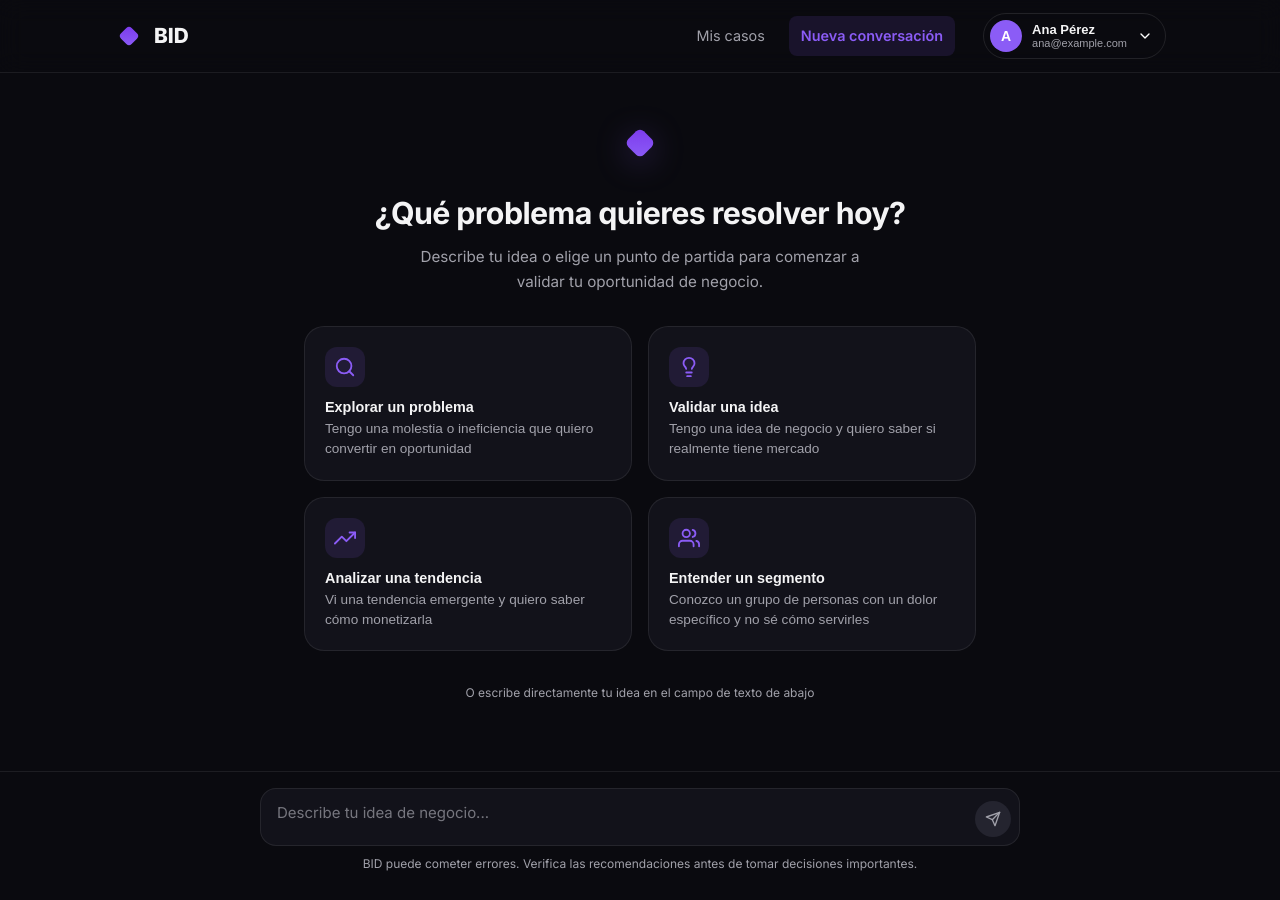
Scenario: ChatPage › creates a case and sends the first message through the case chat endpoint
Expected: the heading "¿Qué problema quieres resolver hoy?" is shown, [374,189,906,237]
Type "Quiero digitalizar ferias" into the text box with placeholder "Describe tu idea de negocio...".
click(640, 813); type("Quiero digitalizar ferias")  # box [261,789,1019,837]
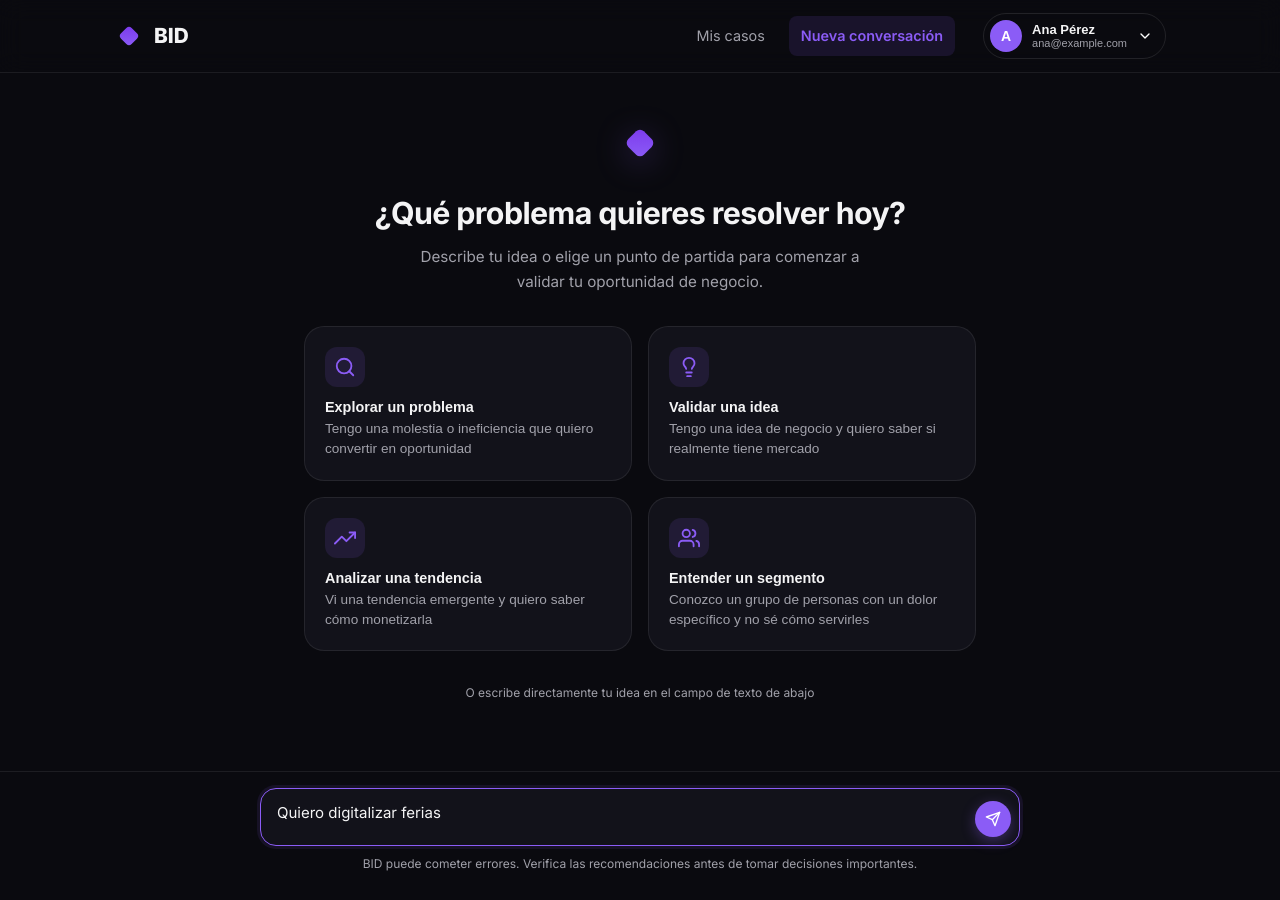
Click the button named "Enviar".
click(993, 819)  # box [975,801,1011,837]
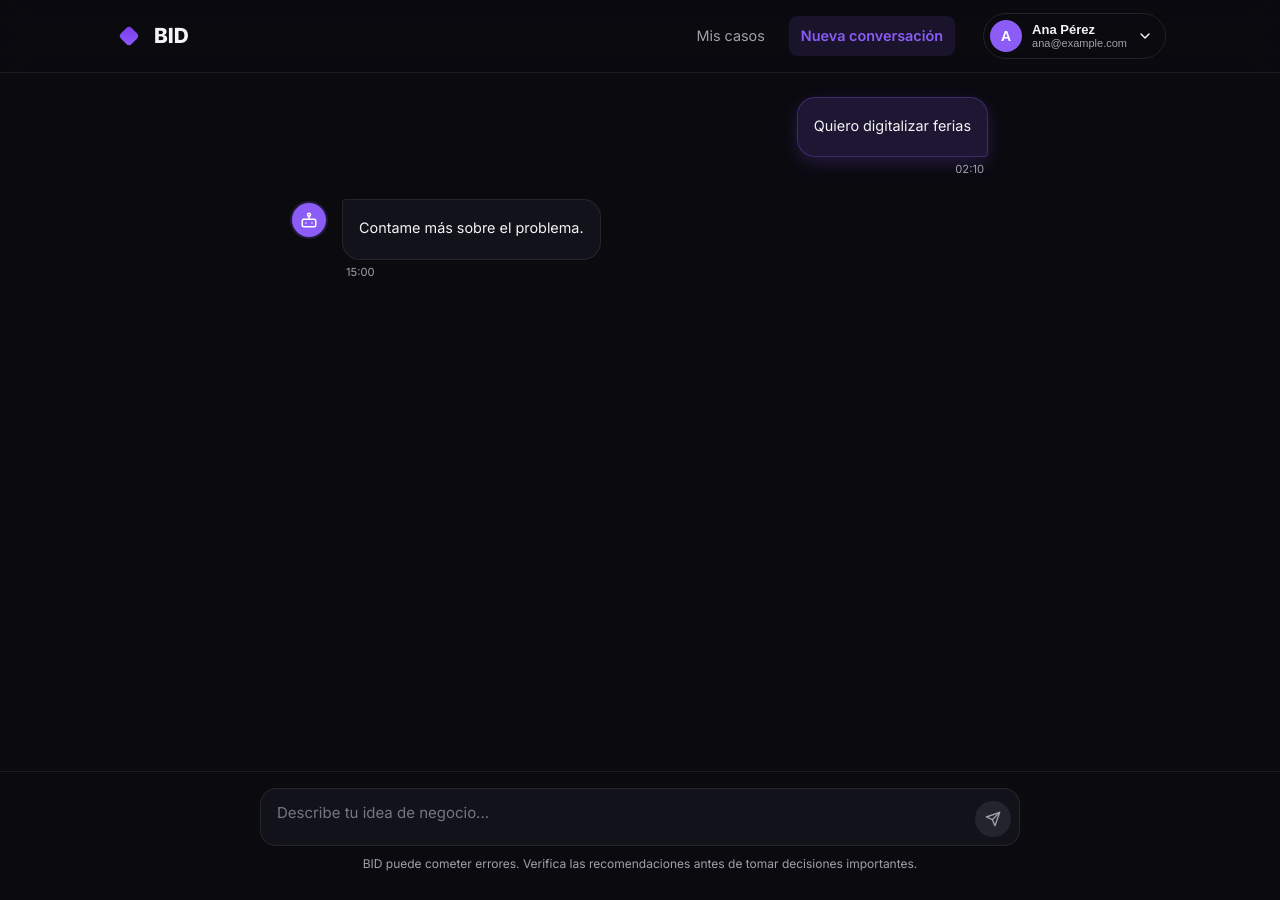
Now the text "Contame más sobre el problema." is shown, box [359,216,584,241]
Now the text "Quiero digitalizar ferias" is shown, box [814,114,971,138]
